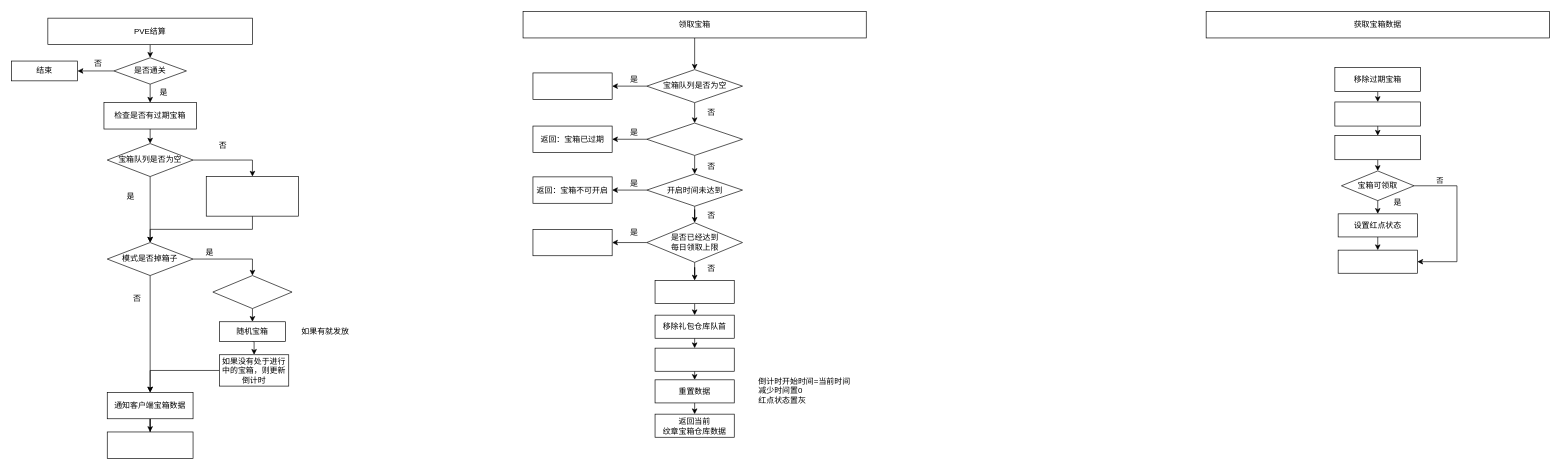
The diagram is 1561 pixels wide and 475 high, and some of its shapes have lost their labels. Each missing label, with the centre of its shape:
"增加开启礼包次数 更新开启时间戳" goes at (x=694, y=292).
"宝箱栏位是否已满" goes at (x=252, y=292).
"开启礼包道具" goes at (x=694, y=359).
"是否过期" goes at (x=694, y=138).
"校验当前可领取时间" goes at (x=1377, y=147).
"检查完成状态 更新减少时间" goes at (x=252, y=196).
"组装宝箱数据" goes at (x=1377, y=261).
"返回新增的宝箱数据" goes at (x=150, y=444).
"返回：参数错误" goes at (x=572, y=85).
"返回：宝箱不可开启 已达到上限" goes at (x=572, y=242).
"重置每日可领取时间" goes at (x=1377, y=113).
